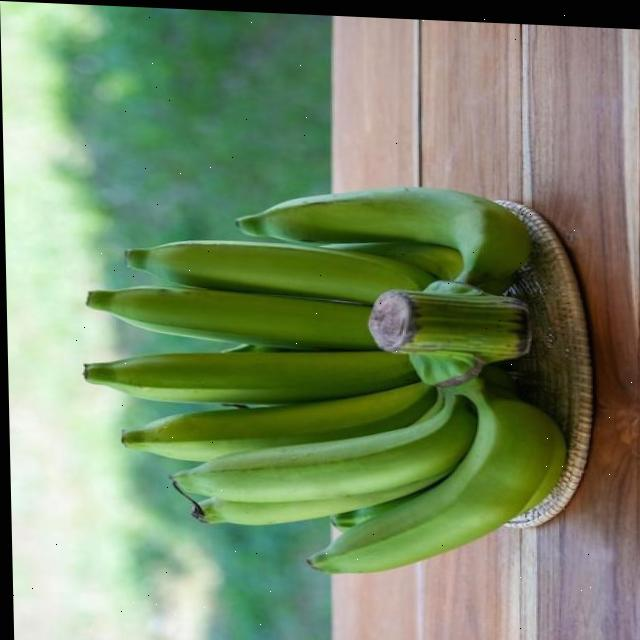banana: (64, 167, 578, 585)
